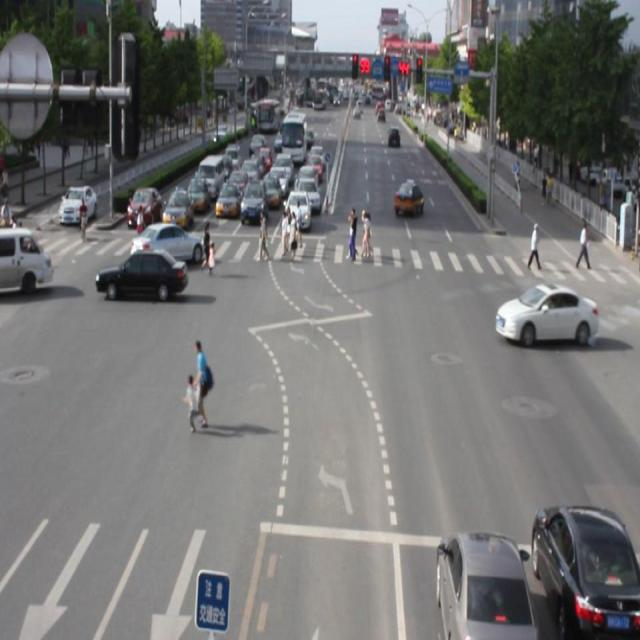car: (523, 495, 640, 640), (429, 524, 530, 640), (493, 278, 596, 347), (95, 247, 189, 301), (132, 222, 204, 266)
